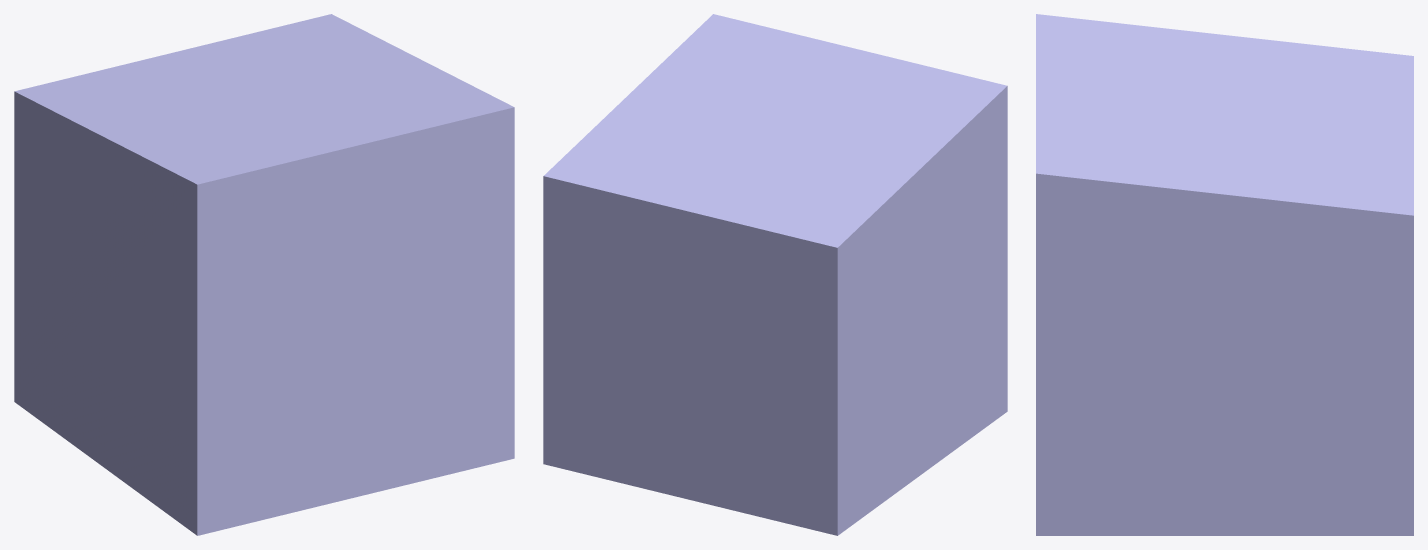
Rendered from veranda_3x3_lo.fbx.
The picture shows the model from 3 angles, left to right: view 1: azimuth 30°, elevation 25°; view 2: azimuth 150°, elevation 25°; view 3: azimuth 270°, elevation 25°; orthographic projection. The views are drawn at different scales.
Parts seen in each view (by area): view 1: Model; view 2: Model; view 3: Model.
Boxes of the visible parts, x1,y1,x2,y2 form: Model: [14, 14, 514, 535]; Model: [543, 14, 1007, 535]; Model: [1036, 14, 1413, 535].
Size of the model in its own units: 3000 by 3175 by 3000.
